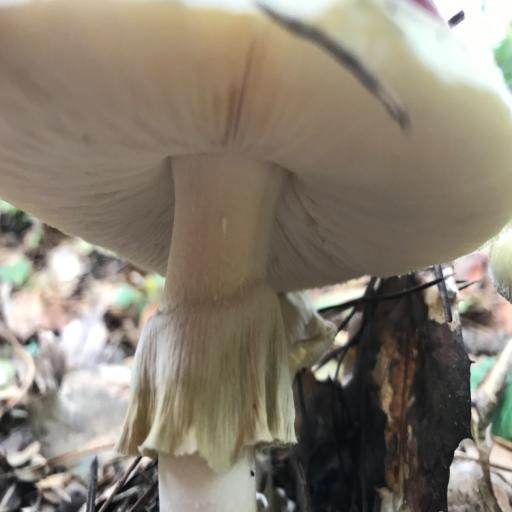Death Cap: (2, 3, 512, 512)
